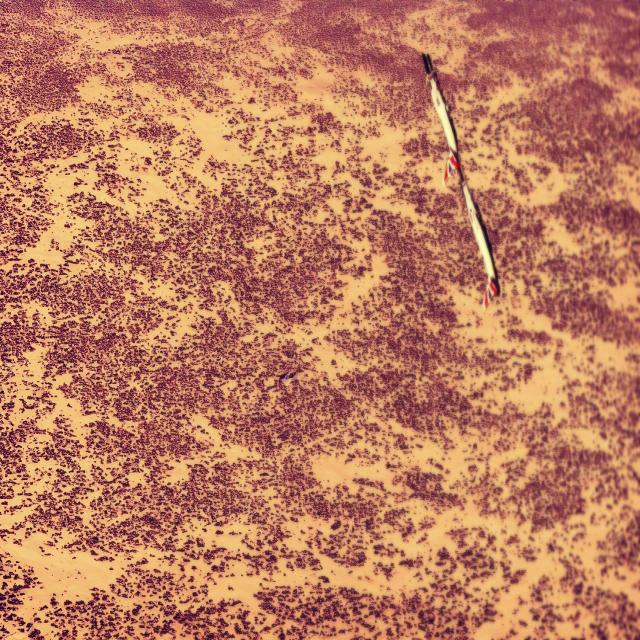airplane: (421, 51, 500, 309)
